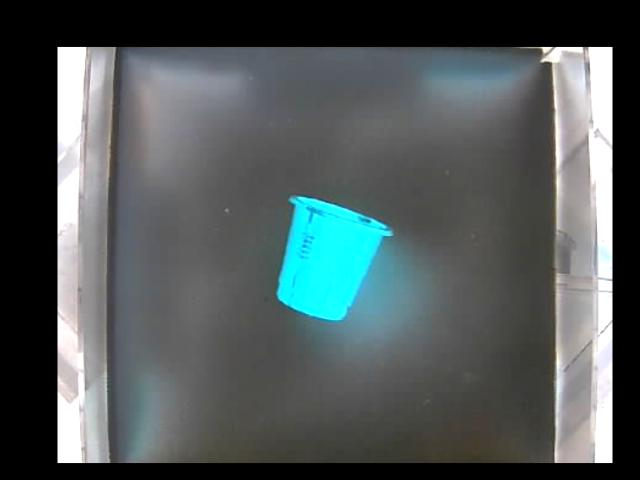Cup: (274, 196, 392, 320)
